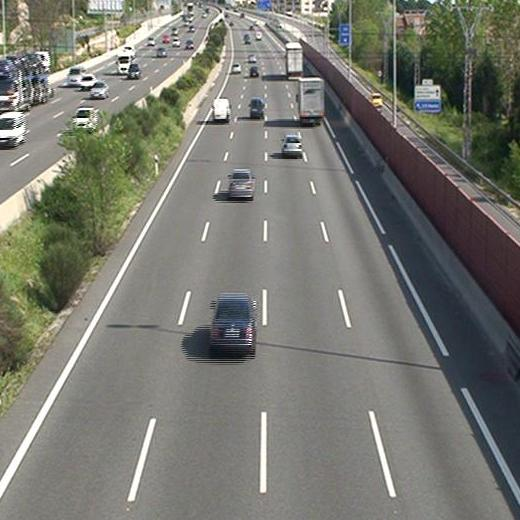car: (210, 294, 256, 353), (228, 169, 255, 198), (281, 136, 302, 156), (250, 67, 259, 77), (231, 63, 240, 72)
small-truck: (297, 77, 325, 124)
truck: (285, 42, 302, 77)
van: (213, 99, 231, 121), (250, 98, 264, 118)
